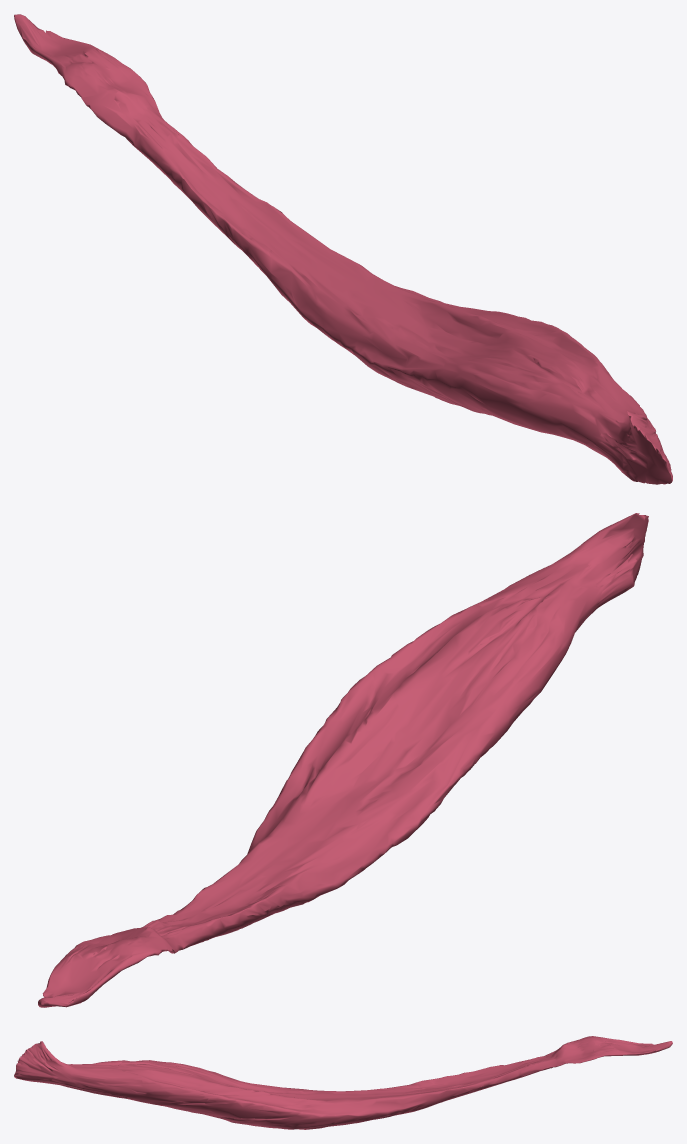
3 views of the same model, one above another, from view 1: azimuth 30°, elevation 25°; view 2: azimuth 150°, elevation 25°; view 3: azimuth 270°, elevation 25° (orthographic). The views are drawn at different scales.
Visible parts, largest first — view 1: 左侧股直肌; view 2: 左侧股直肌; view 3: 左侧股直肌.
Part boxes in pixels (left/top/right/bottom): 左侧股直肌: left=14, top=14, right=672, bottom=484; 左侧股直肌: left=38, top=513, right=648, bottom=1007; 左侧股直肌: left=14, top=1036, right=672, bottom=1129.
Bounding box in the file's own units: 0.1202 × 0.1022 × 0.8035.
